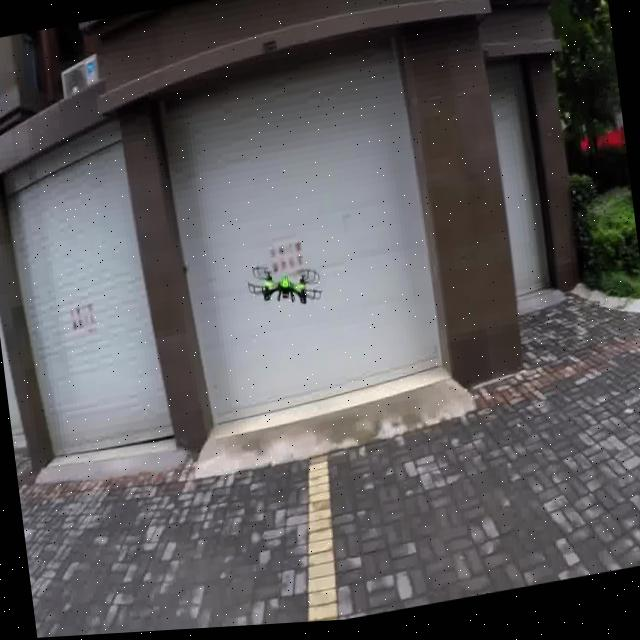drone: (242, 243, 326, 319)
